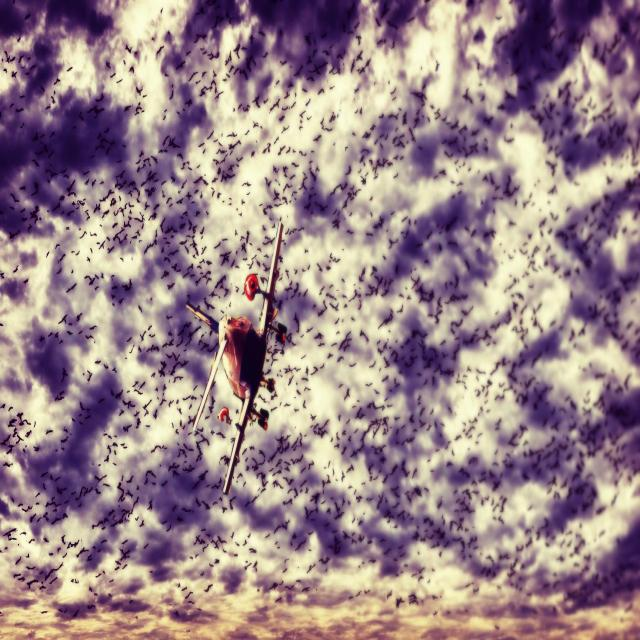airplane: (185, 218, 288, 494)
